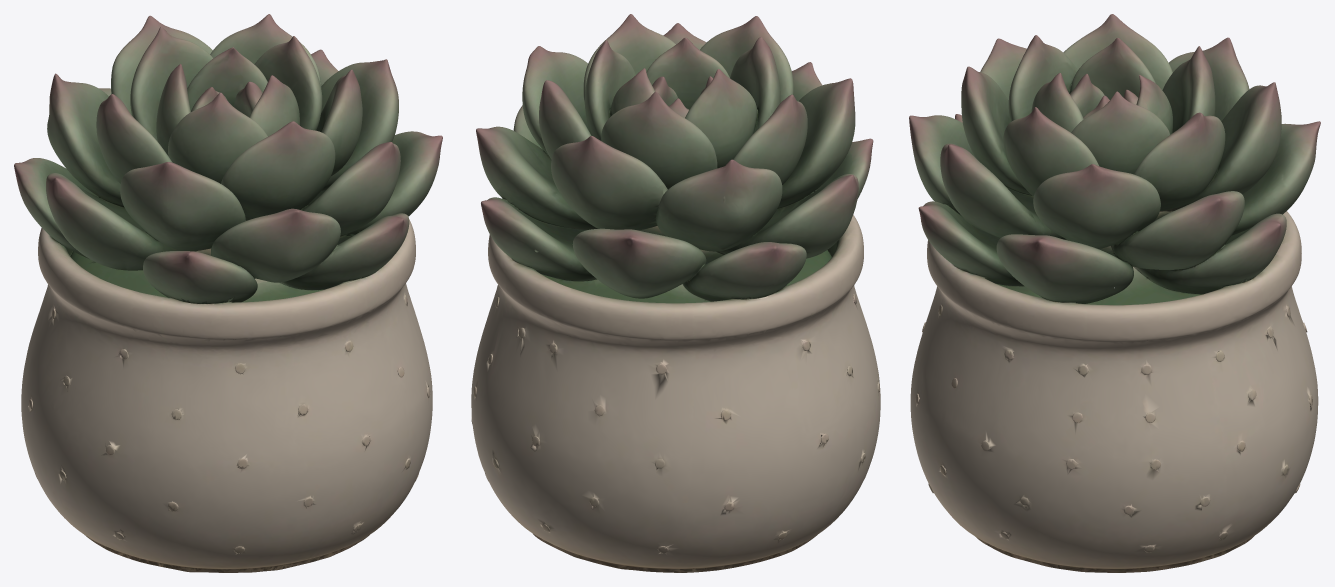
Rendered from plant.glb.
The picture shows the model from 3 angles, left to right: view 1: azimuth 30°, elevation 25°; view 2: azimuth 150°, elevation 25°; view 3: azimuth 270°, elevation 25°; orthographic projection.
Visible parts, largest first — view 1: tripo_node_e129a13d-5c1e-42d3-af59-99a7636fc971; view 2: tripo_node_e129a13d-5c1e-42d3-af59-99a7636fc971; view 3: tripo_node_e129a13d-5c1e-42d3-af59-99a7636fc971.
Boxes of the visible parts, box(x1,y1,x2,y2) form: tripo_node_e129a13d-5c1e-42d3-af59-99a7636fc971: box(14, 14, 442, 572); tripo_node_e129a13d-5c1e-42d3-af59-99a7636fc971: box(471, 14, 880, 572); tripo_node_e129a13d-5c1e-42d3-af59-99a7636fc971: box(909, 14, 1320, 572).
Bounding box in the file's own units: 0.8028 × 0.9804 × 0.811.
Materials: 1 (1 with a texture image).
